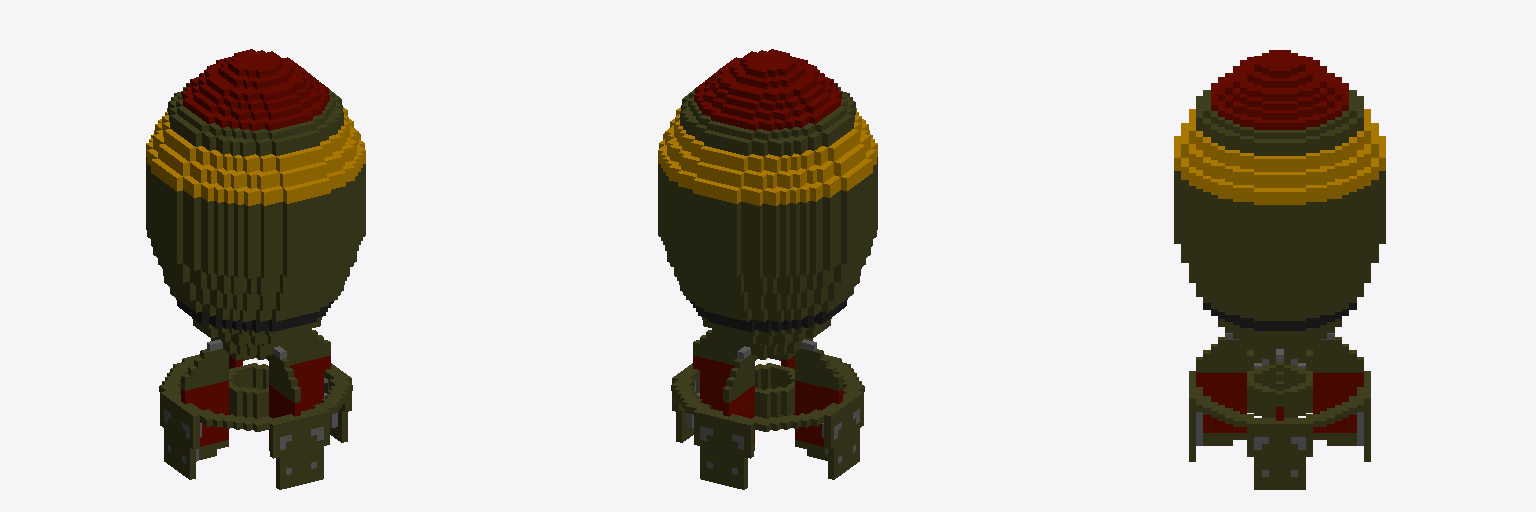
The picture shows the model from 3 angles: view 1: azimuth 30°, elevation 25°; view 2: azimuth 150°, elevation 25°; view 3: azimuth 270°, elevation 25°; orthographic projection.
Parts seen in each view (by area): view 1: nukeComplete; view 2: nukeComplete; view 3: nukeComplete.
Part boxes in pixels (bbox=[...]): nukeComplete: bbox=[146, 49, 365, 489]; nukeComplete: bbox=[658, 49, 877, 489]; nukeComplete: bbox=[1174, 50, 1385, 489].
Bounding box in the file's own units: 29 × 59 × 29.
Materials: 1 (1 with a texture image).